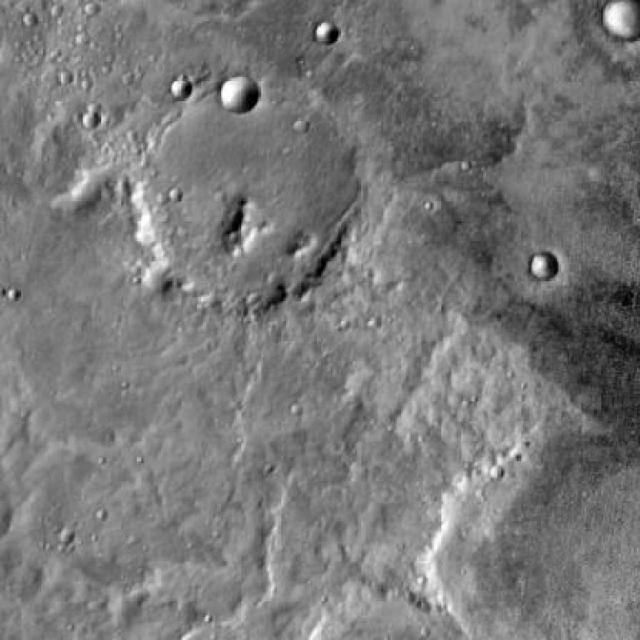crater: (134, 85, 368, 306), (409, 438, 640, 640), (566, 464, 640, 571), (592, 0, 639, 38), (224, 77, 264, 114), (528, 249, 561, 280), (316, 23, 339, 45), (171, 77, 192, 98), (82, 112, 100, 128)
